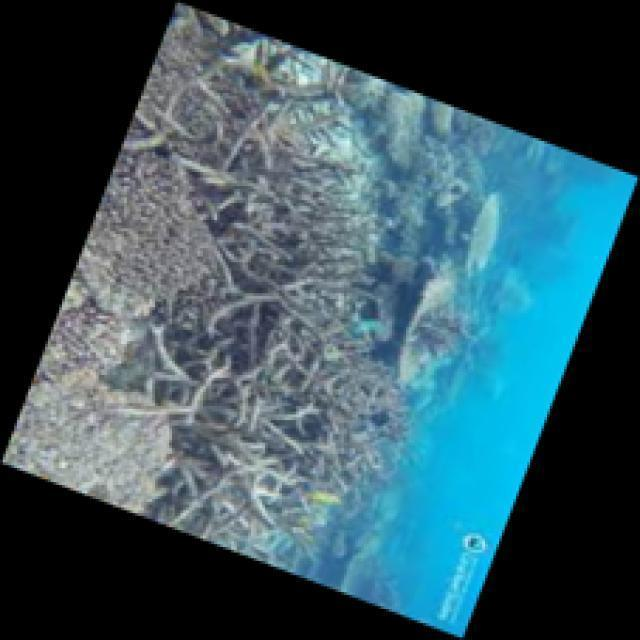Dead Coral: (154, 80, 393, 309), (207, 310, 437, 493), (0, 358, 226, 521), (91, 151, 222, 321)
